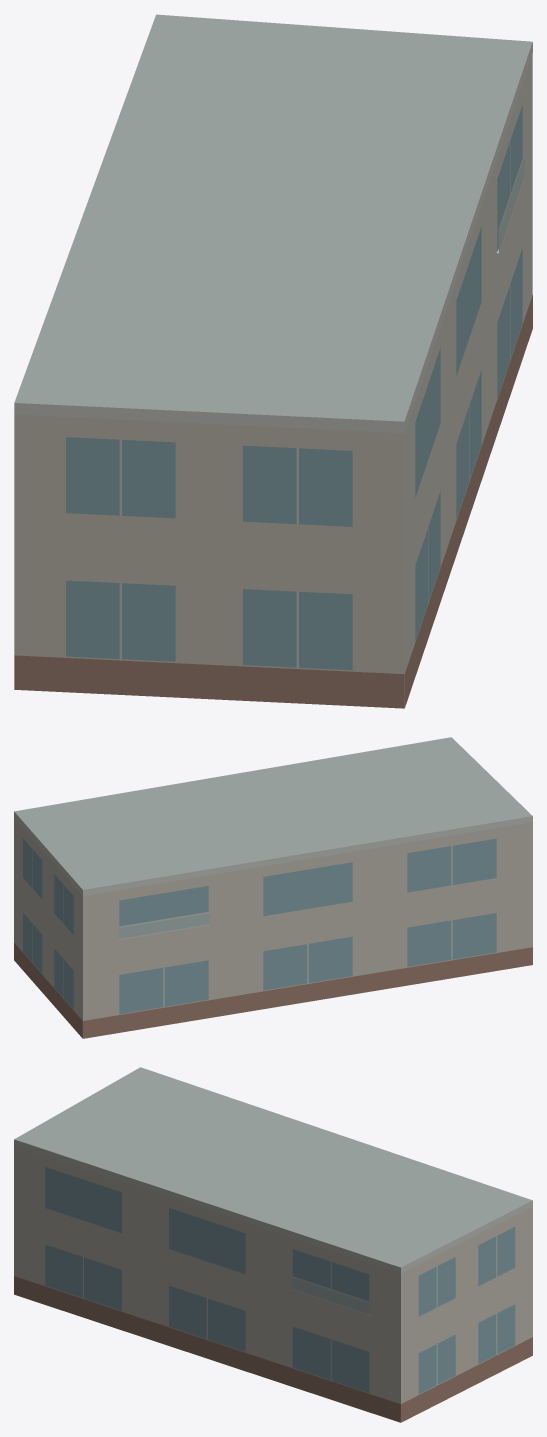
File: survey-upis-32947930.glb
3 renders of one model, top to bottom at view 1: azimuth 30°, elevation 25°; view 2: azimuth 150°, elevation 25°; view 3: azimuth 270°, elevation 25°, orthographic. The views are drawn at different scales.
Parts seen in each view (by area): view 1: survey-upis-32947930.tmp; view 2: survey-upis-32947930.tmp; view 3: survey-upis-32947930.tmp.
Part boxes in pixels (<box>): survey-upis-32947930.tmp: <box>14,14,532,708</box>; survey-upis-32947930.tmp: <box>14,737,532,1038</box>; survey-upis-32947930.tmp: <box>14,1067,532,1422</box>.
Size of the model in its own units: 16.9 by 6.1 by 18.49.
